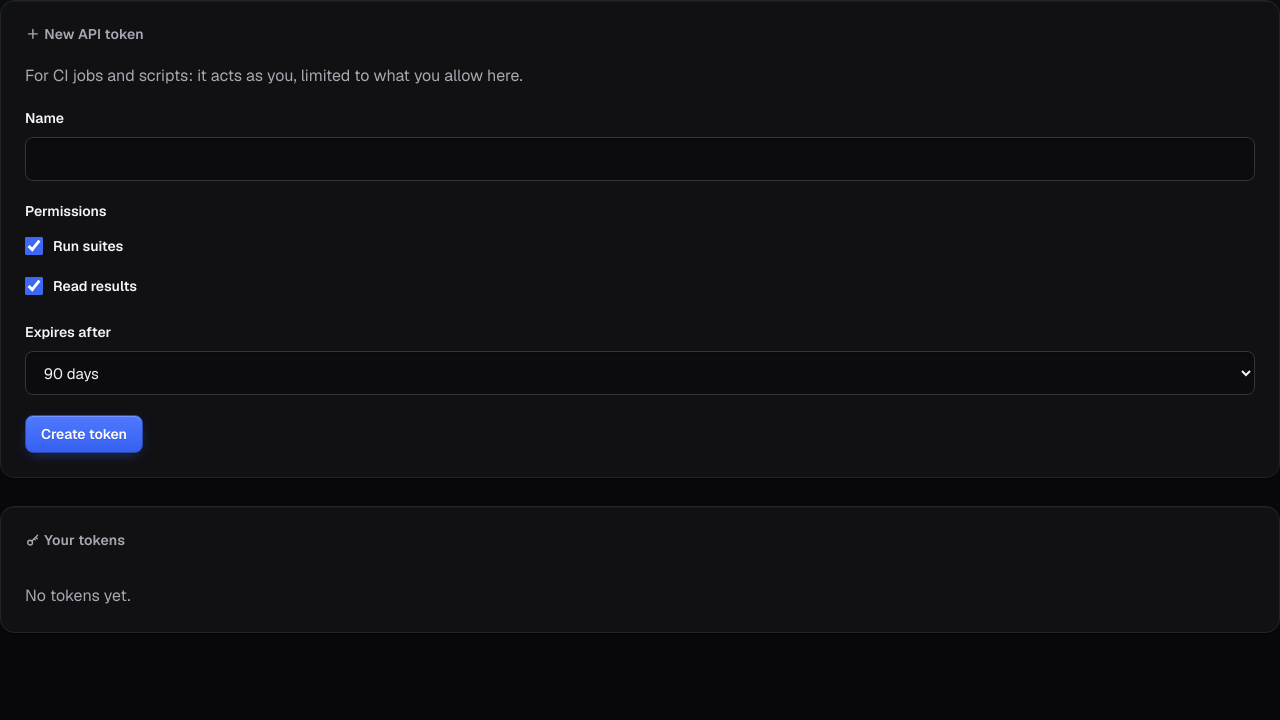
Test: ApiTokens (V1.2 F4) › asks for a name and a permission
Click the button "Create token" at (84, 434), box [25,415,143,453]
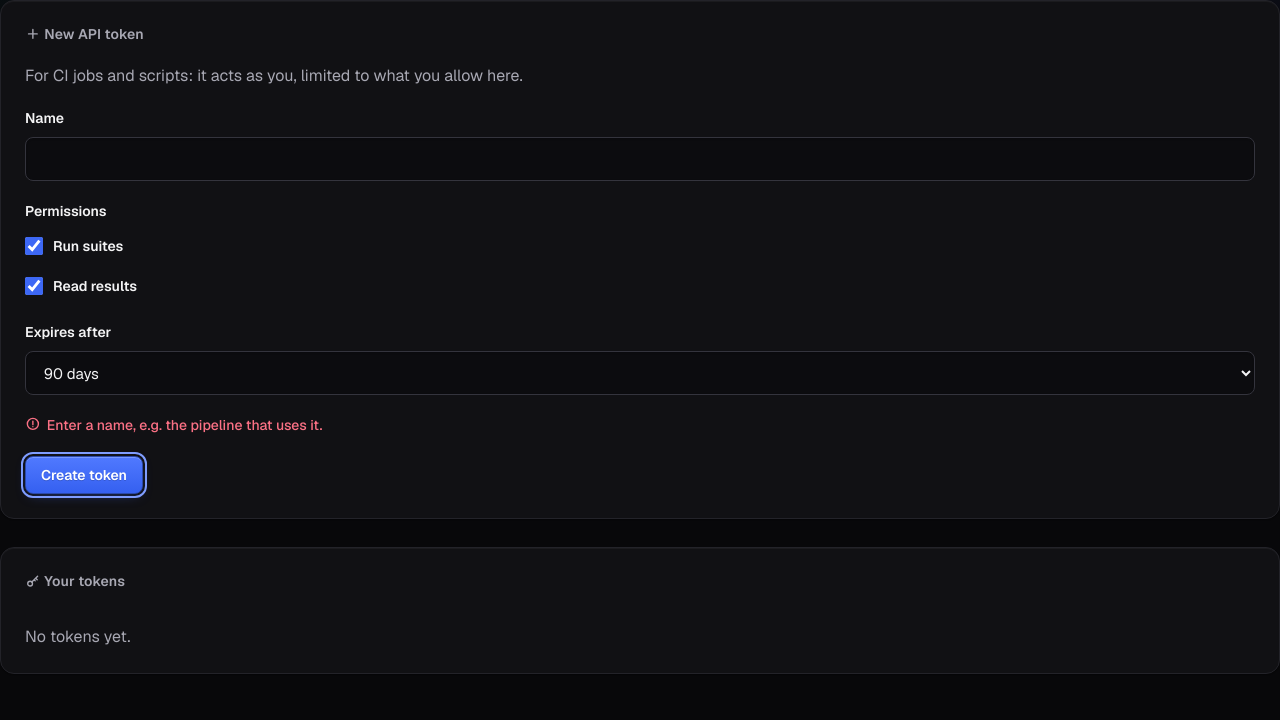
Check: the text "Enter a name, e.g. the pipeline that uses it." is shown, box [25,416,322,434]
Type "x" into the field labelled "Name" at (640, 159), box [25,137,1255,181]
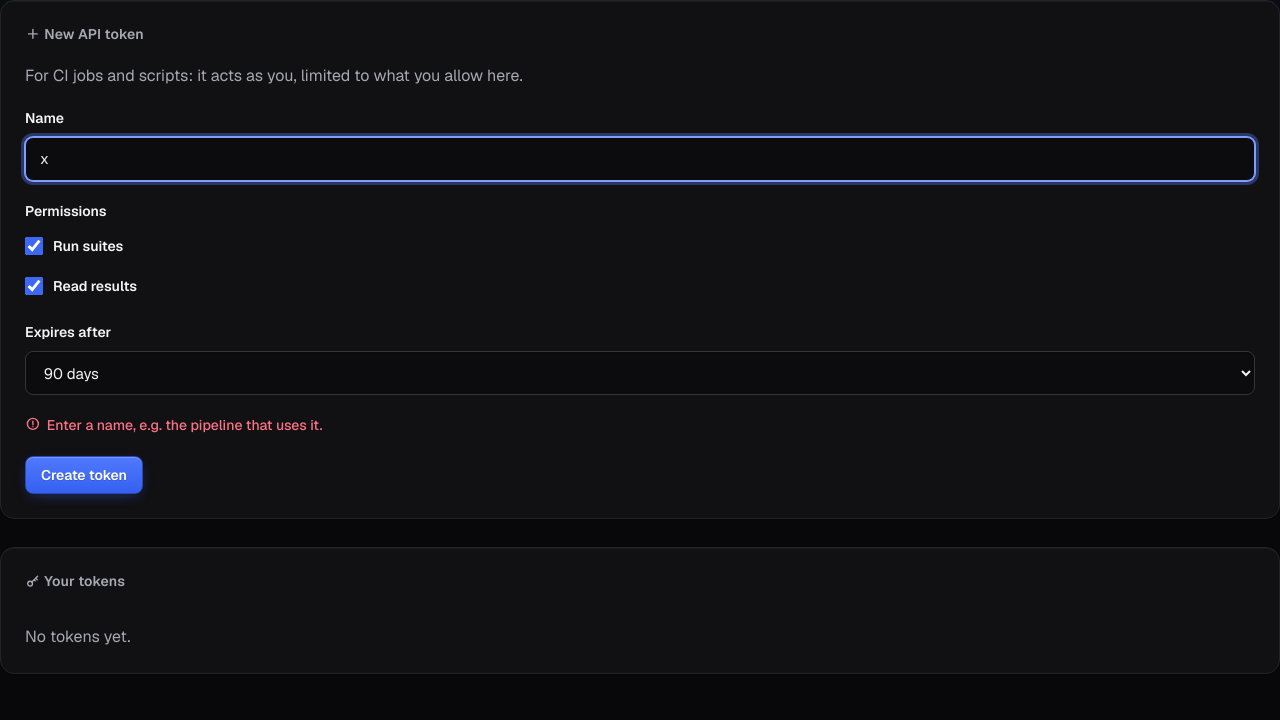
Click the checkbox labelled "Run suites" at (34, 246), box [25,237,43,255]
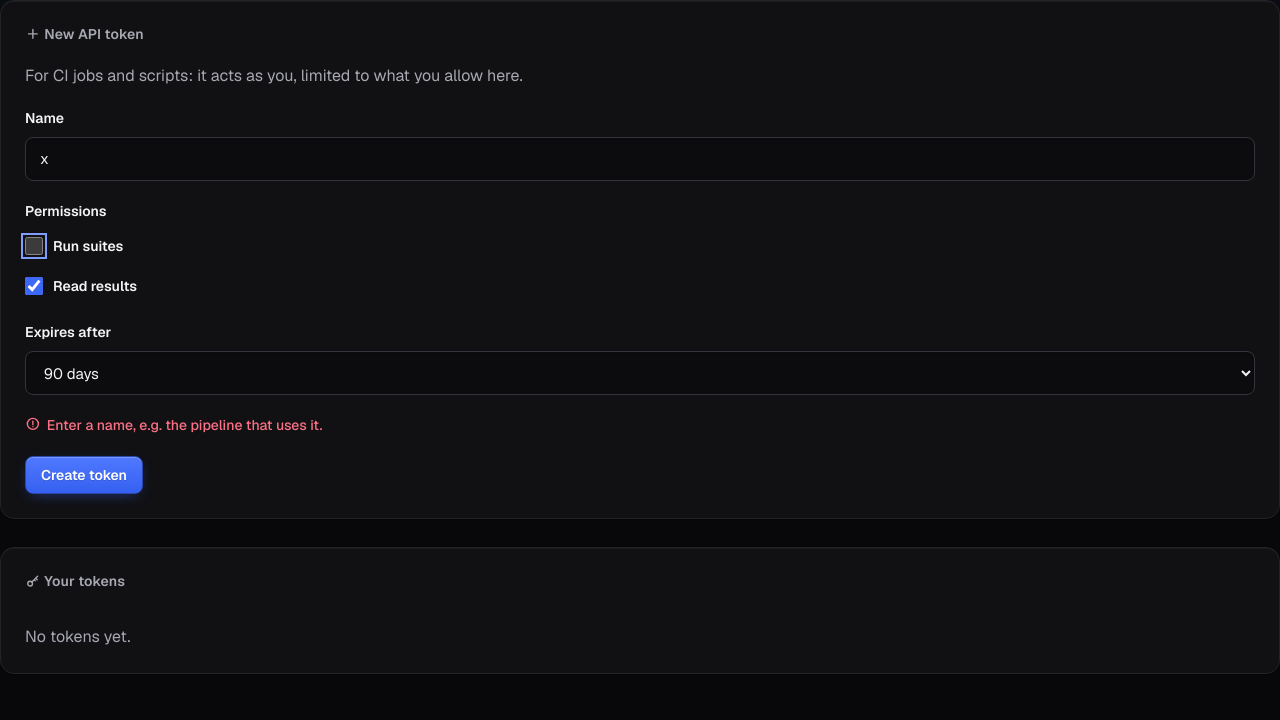
Click the checkbox labelled "Read results" at (34, 286), box [25,277,43,295]
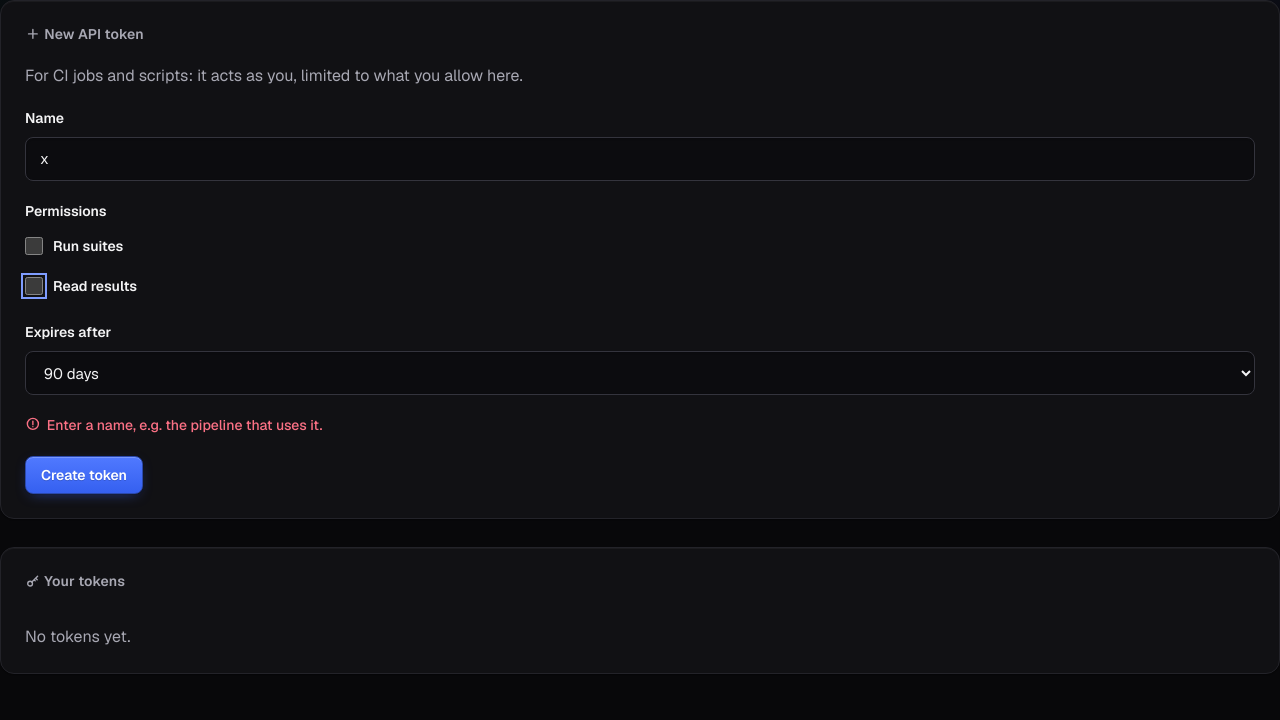
Click the button "Create token" at (84, 475), box [25,456,143,494]
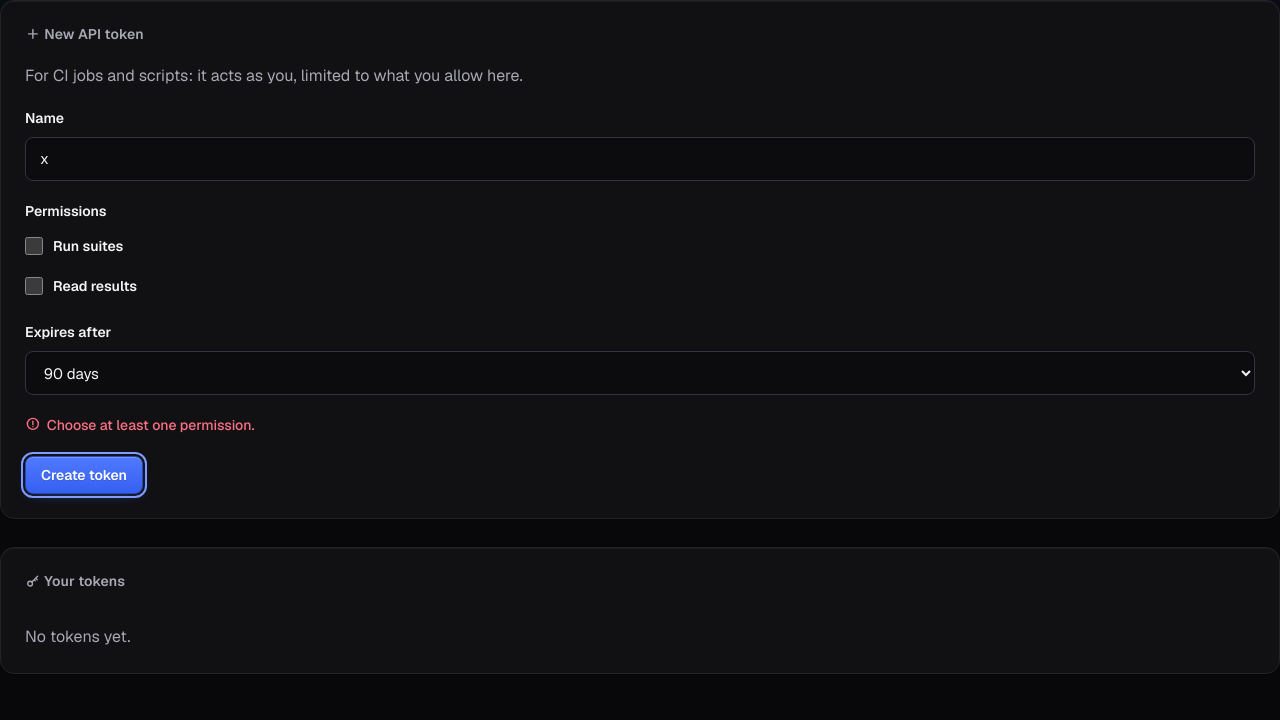
Check: the text "Choose at least one permission." is shown, box [25,416,254,434]
